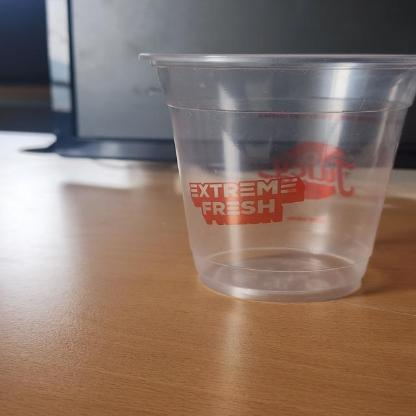Plastic Cup: (138, 51, 416, 302)
